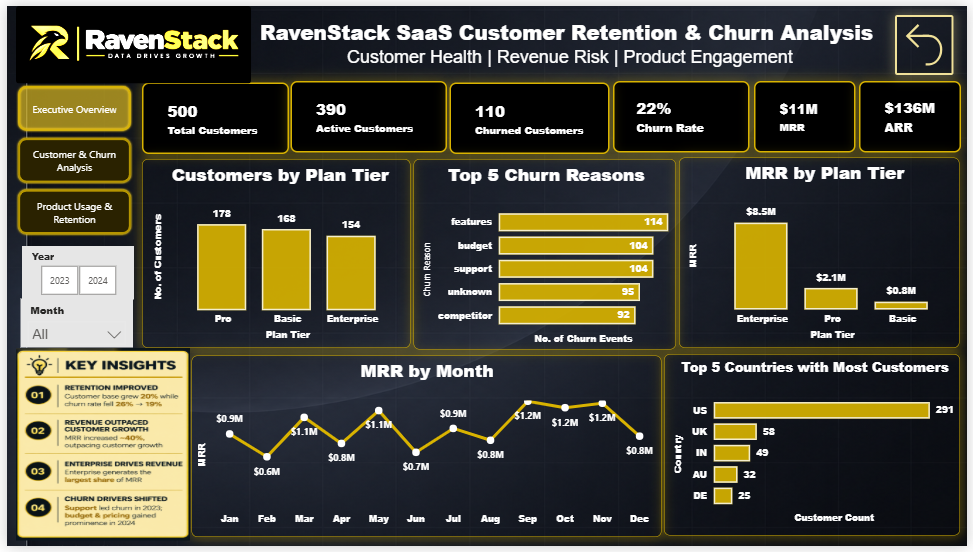

The page's visual inventory and layout, read from the dashboard file:
{"tool":"powerbi","page":{"name":"Executive Overview","canvas":[1280,720],"ordinal":0},"visuals":[{"type":"textbox","box":[324.5,11.1,851,81.1],"z":0},{"type":"cardVisual","fields":{"Data":["ravenstack_accounts.Total Customers"]},"box":[180,101,196,95],"z":1000},{"type":"cardVisual","fields":{"Data":["ravenstack_accounts.Active Customers"]},"box":[378.6,100.2,208.4,95.4],"z":2000},{"type":"cardVisual","fields":{"Data":["ravenstack_accounts.Churn Rate %"]},"box":[808,100.2,182,95],"z":3000},{"type":"cardVisual","fields":{"Data":["ravenstack_accounts.Churned Customers"]},"box":[590,101,213,95],"z":4000},{"type":"cardVisual","fields":{"Data":["ravenstack_accounts.MRR"]},"box":[995.7,100.2,135.2,95.4],"z":5000},{"type":"cardVisual","fields":{"Data":["ravenstack_accounts.ARR"]},"box":[1135,100,136,95.4],"z":6000},{"type":"columnChart","title":"Customers by Plan Tier","fields":{"Category":["ravenstack_accounts.Plan Tier"],"Y":["CountNonNull(ravenstack_accounts.Account ID)"]},"box":[180,204,358,252],"z":7000},{"type":"lineChart","fields":{"Y":["ravenstack_accounts.MRR"],"Category":["Date_Table.Month"]},"box":[246,465,626.7,241.7],"z":8000},{"type":"columnChart","fields":{"Y":["ravenstack_accounts.MRR"],"Category":["ravenstack_subscriptions.Plan Tier"]},"box":[896,202,374,254],"z":9000},{"type":"clusteredBarChart","title":"Top 5 Churn Reasons","fields":{"Category":["ravenstack_churn_events.Reason Code"],"Y":["CountNonNull(ravenstack_churn_events.Churn Event ID)"]},"box":[541,204,350,254],"z":10000},{"type":"barChart","title":"Top 5 Countries with Most Customers","fields":{"Category":["ravenstack_accounts.Country"],"Y":["CountNonNull(ravenstack_accounts.Account ID)"]},"box":[876.4,464.5,394.5,241.8],"z":11000},{"type":"slicer","fields":{"Values":["Date_Table.Month"]},"box":[18.3,390,150,65],"z":12000},{"type":"slicer","fields":{"Values":["Date_Table.Year"]},"box":[19.1,319,149.5,71.6],"z":13000},{"type":"actionButton","box":[1184,11,78,80],"z":17000},{"type":"image","box":[11.7,0,313.3,103.3],"z":18000},{"type":"image","box":[11.7,456.7,231.7,256.7],"z":19000},{"type":"pageNavigator","box":[11.7,103.3,156.7,203.3],"z":20001}]}

Visuals, with their boxes in screenshot pixels (x1, y1, x2, y2), scaled from the page's 1280x720 canvas onto the 973x552 screenshot:
textbox: x1=247, y1=9, x2=894, y2=71
cardVisual - ravenstack_accounts.Total Customers: x1=137, y1=77, x2=286, y2=150
cardVisual - ravenstack_accounts.Active Customers: x1=288, y1=77, x2=446, y2=150
cardVisual - ravenstack_accounts.Churn Rate %: x1=614, y1=77, x2=753, y2=150
cardVisual - ravenstack_accounts.Churned Customers: x1=448, y1=77, x2=610, y2=150
cardVisual - ravenstack_accounts.MRR: x1=757, y1=77, x2=860, y2=150
cardVisual - ravenstack_accounts.ARR: x1=863, y1=77, x2=966, y2=150
"Customers by Plan Tier" columnChart: x1=137, y1=156, x2=409, y2=350
lineChart - ravenstack_accounts.MRR x Date_Table.Month: x1=187, y1=356, x2=663, y2=542
columnChart - ravenstack_accounts.MRR x ravenstack_subscriptions.Plan Tier: x1=681, y1=155, x2=965, y2=350
"Top 5 Churn Reasons" clusteredBarChart: x1=411, y1=156, x2=677, y2=351
"Top 5 Countries with Most Customers" barChart: x1=666, y1=356, x2=966, y2=541
slicer - Date_Table.Month: x1=14, y1=299, x2=128, y2=349
slicer - Date_Table.Year: x1=15, y1=245, x2=128, y2=299
actionButton: x1=900, y1=8, x2=959, y2=70
image: x1=9, y1=0, x2=247, y2=79
image: x1=9, y1=350, x2=185, y2=547
pageNavigator: x1=9, y1=79, x2=128, y2=235
